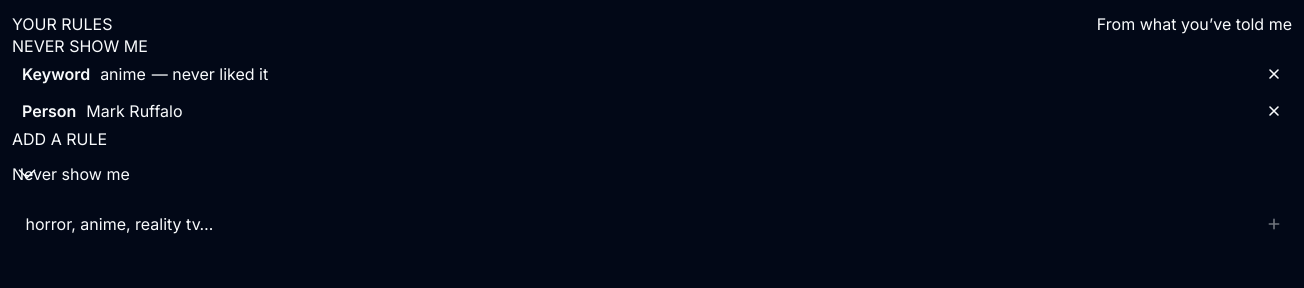
Scenario: <RulesSection /> › puts the row back when the request fails
Click the button named "never show me anime" at (1274, 74), box [1256,56,1292,92]
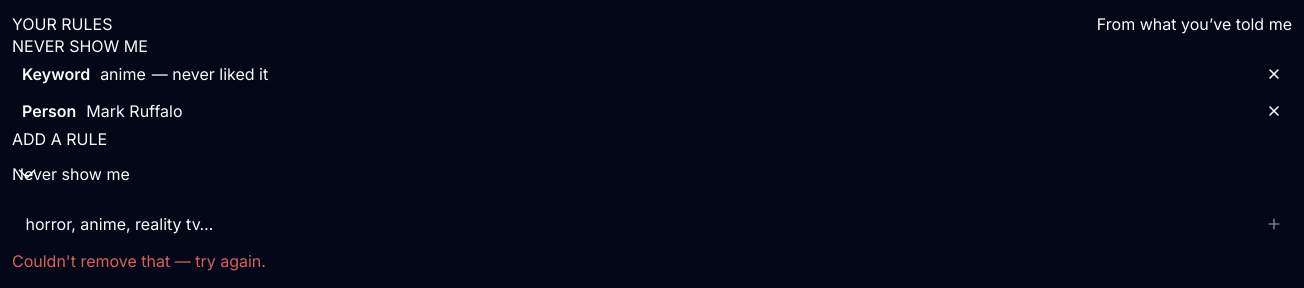
Expected: the text "anime" is shown, [100,64,146,84]
Expected: the text "Couldn't remove that — try again." is shown, [12,250,266,270]
